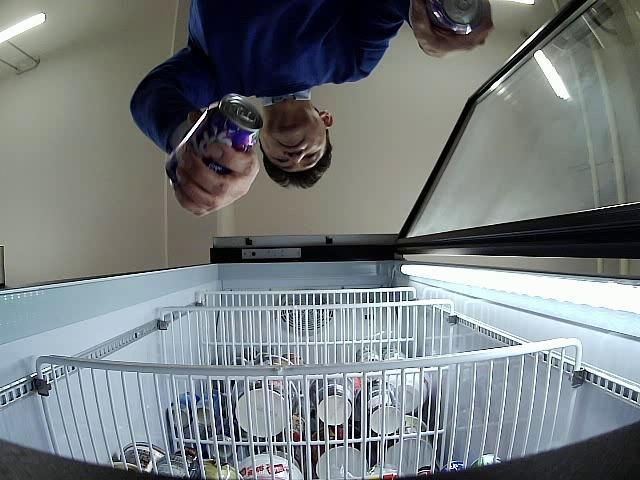14_welchsGrape: (165, 93, 264, 186), (426, 0, 489, 37)
